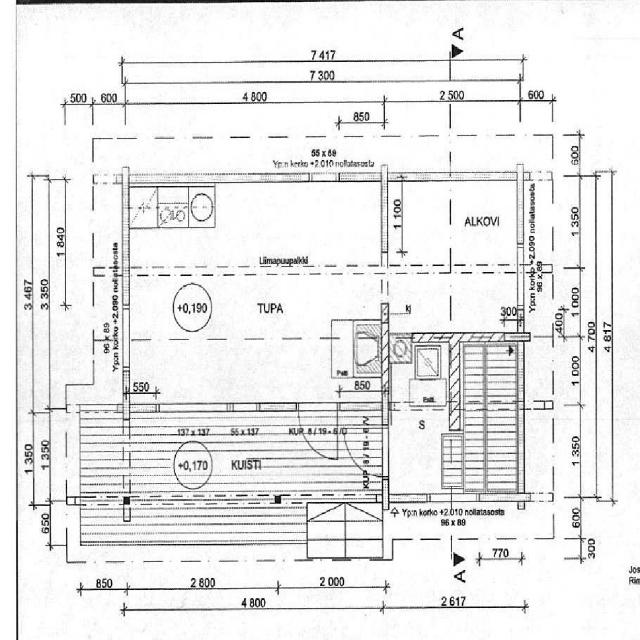door: (298, 403, 338, 460), (344, 427, 388, 476)
